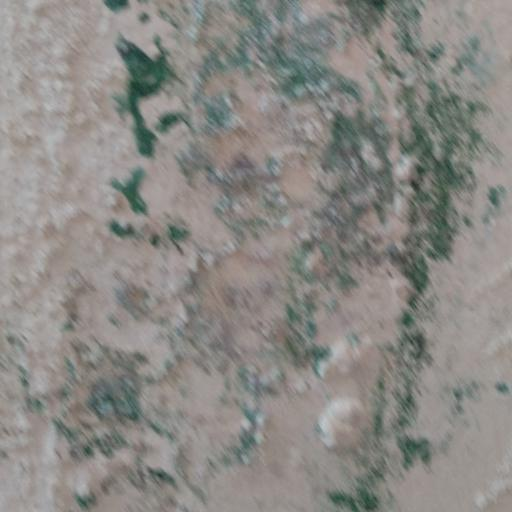algae: (94, 5, 506, 512)
